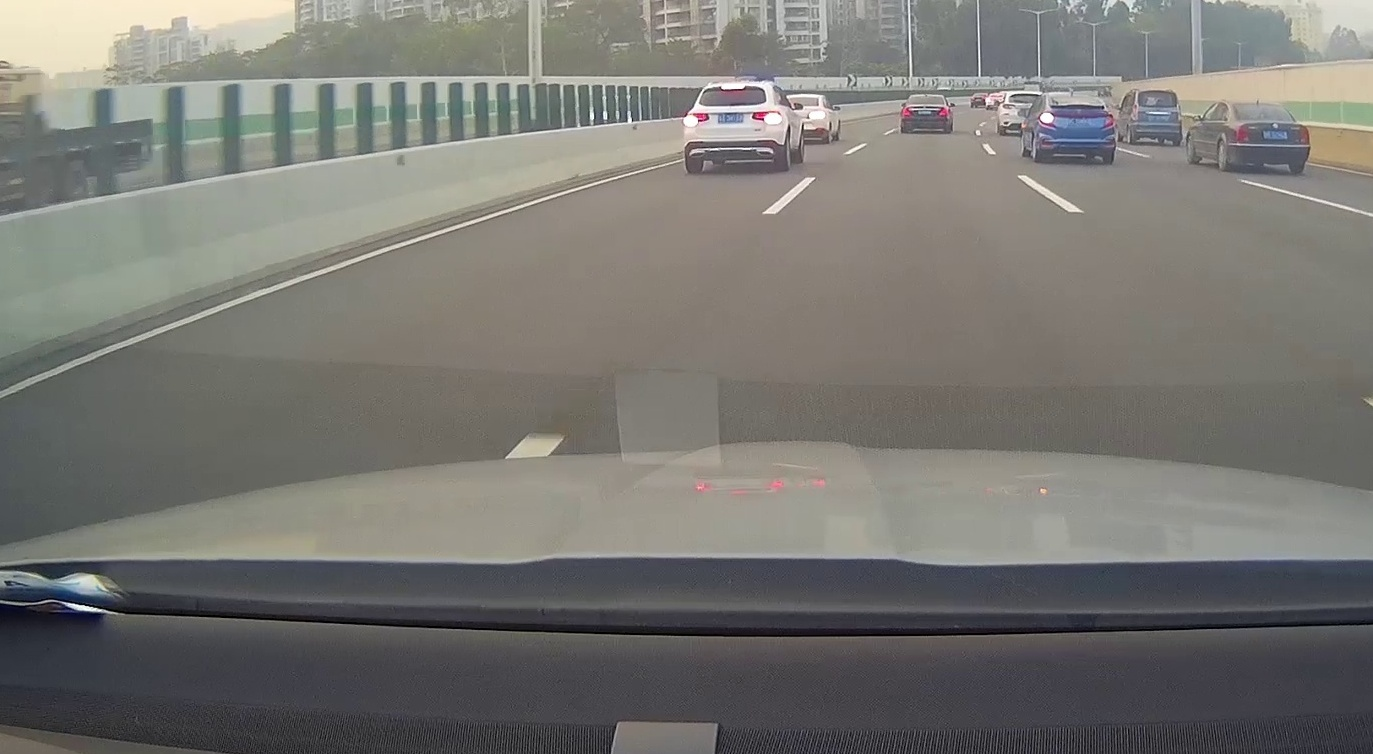L_light: (683, 113, 710, 127), (1039, 113, 1055, 129), (1234, 126, 1249, 142), (1131, 104, 1138, 120), (902, 108, 913, 116)
R_light: (752, 110, 782, 125), (1102, 112, 1115, 128), (1298, 127, 1310, 143), (938, 107, 949, 116), (1177, 104, 1182, 121)
T_light: (721, 85, 744, 89), (1255, 103, 1265, 107), (1070, 95, 1080, 98), (922, 96, 929, 99), (1152, 91, 1160, 93)
day-brake: (682, 81, 787, 173)
day-left: (1037, 92, 1116, 165)
day-no: (1231, 99, 1312, 173), (1130, 88, 1183, 146), (899, 94, 950, 133)
